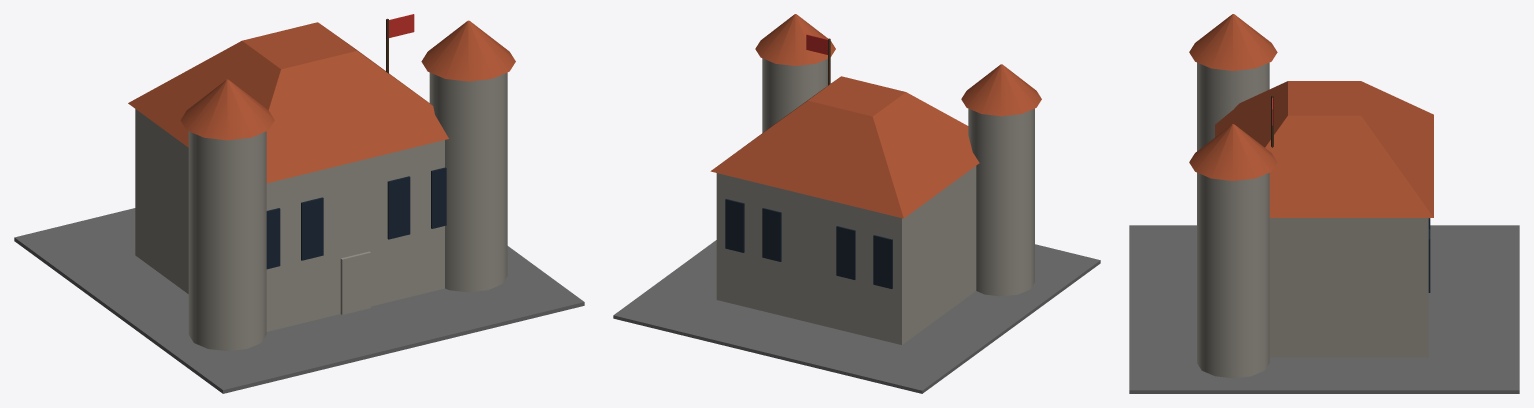
Rendered from bld_special_command_center_a04.glb.
3 renders of one model, left to right at view 1: azimuth 30°, elevation 25°; view 2: azimuth 150°, elevation 25°; view 3: azimuth 270°, elevation 25°, orthographic. The views are drawn at different scales.
Parts seen in each view (by area): view 1: body; view 2: body; view 3: body.
Boxes of the visible parts, box(x1,y1,x2,y2) form: body: box(14, 14, 584, 393); body: box(613, 14, 1100, 393); body: box(1129, 14, 1519, 393).
Size of what is drawn, in the model's own units: 15 by 10.3 by 15.
